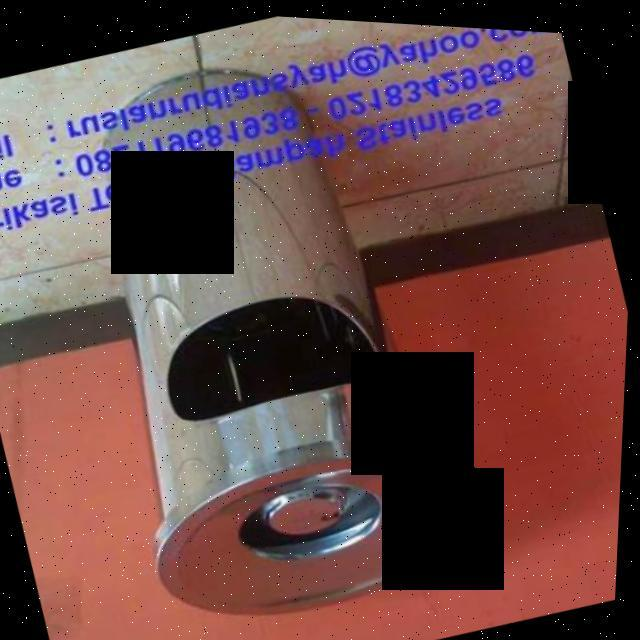bin: (28, 98, 627, 640)
